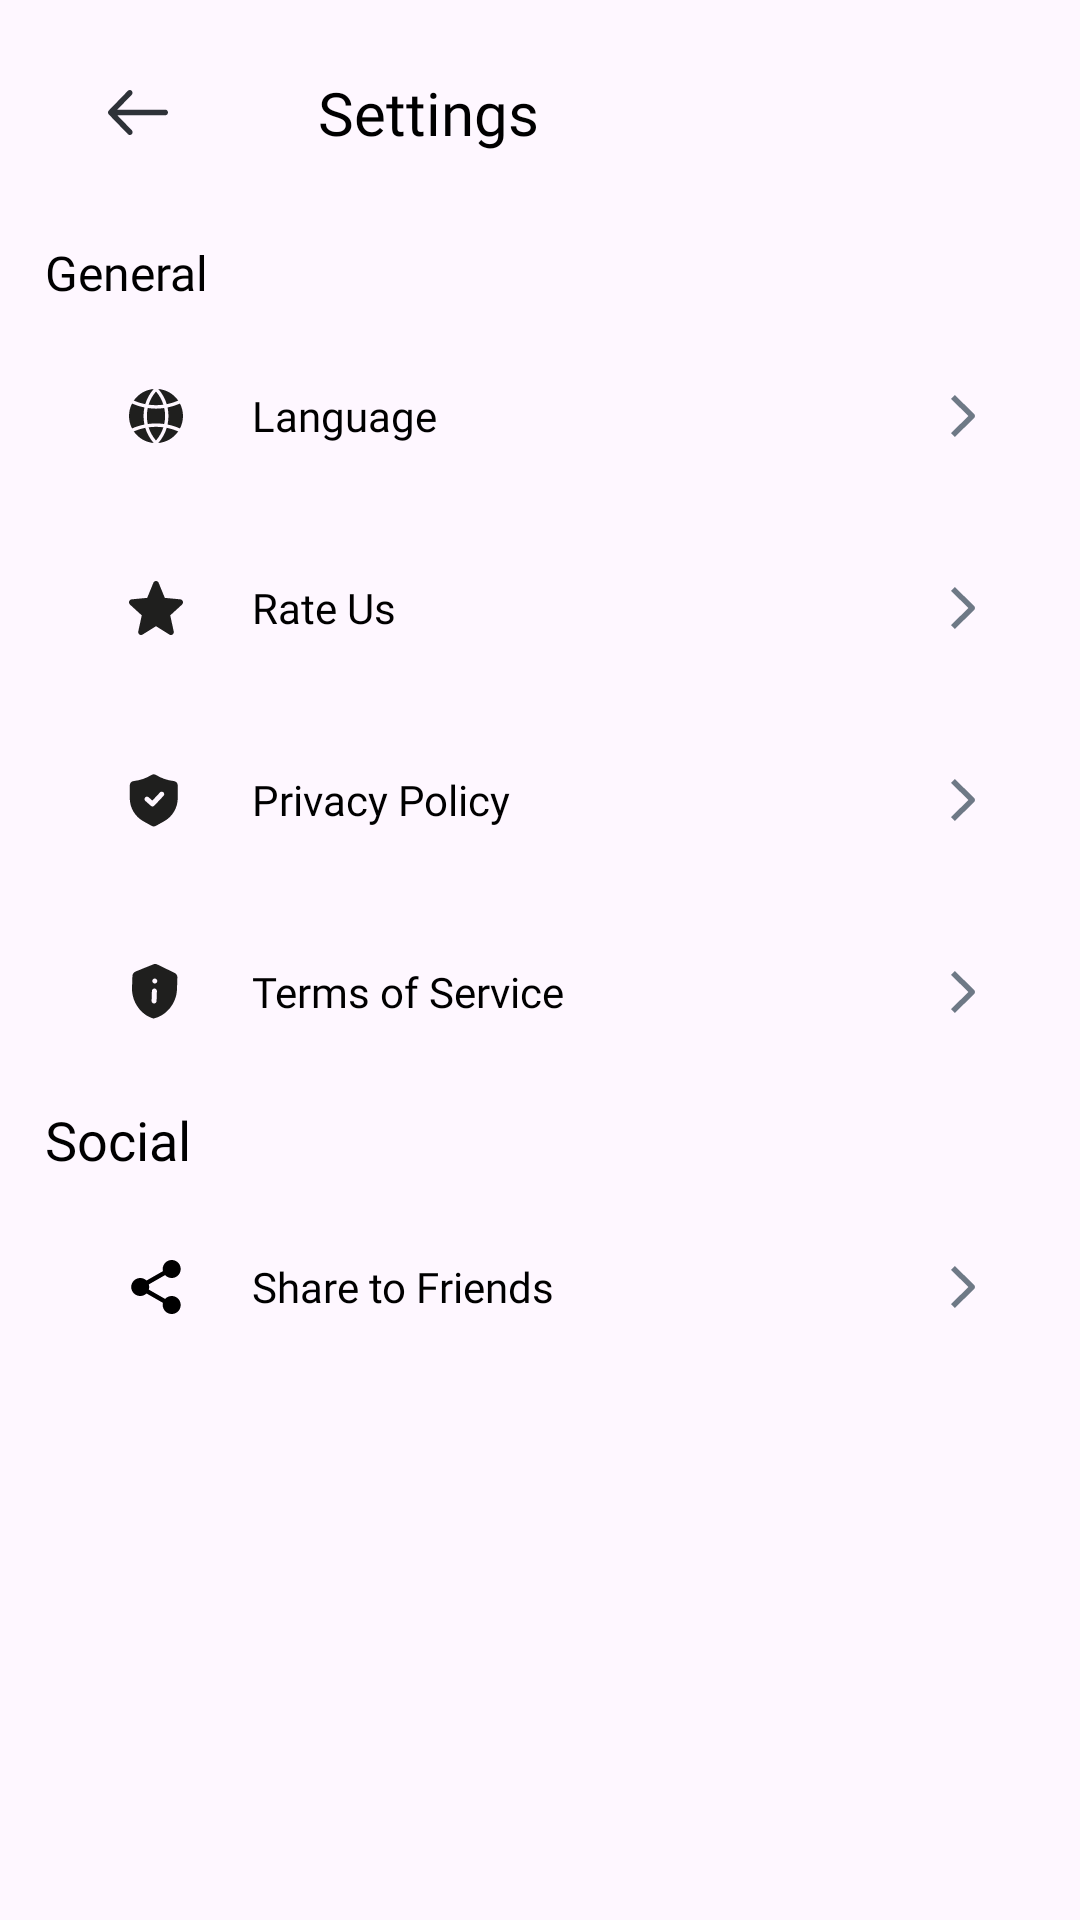

Named icons in this screenshot (1080*1920) and their bounding boxes, region(x1, y1, x2, y2):
back: region(108, 90, 168, 135)
